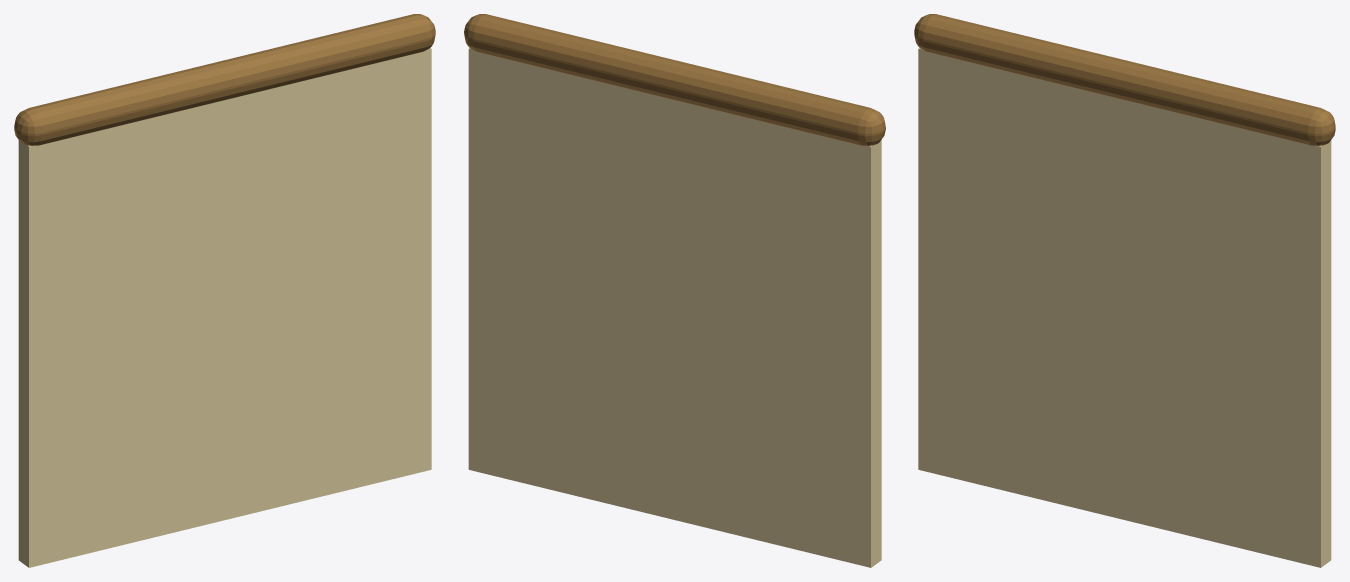
The model's file is SingleWallwithouttBrick01.fbx.
3 views of the same model, side by side, from view 1: azimuth 30°, elevation 25°; view 2: azimuth 150°, elevation 25°; view 3: azimuth 330°, elevation 25° (orthographic).
Visible parts, largest first — view 1: SingleWall01.003; view 2: SingleWall01.003; view 3: SingleWall01.003.
Part boxes in pixels (x1=…): SingleWall01.003: x1=14, y1=14, x2=435, y2=567; SingleWall01.003: x1=464, y1=14, x2=885, y2=567; SingleWall01.003: x1=914, y1=14, x2=1335, y2=567.
Size of the model in its own units: 207 by 215 by 16.01.
